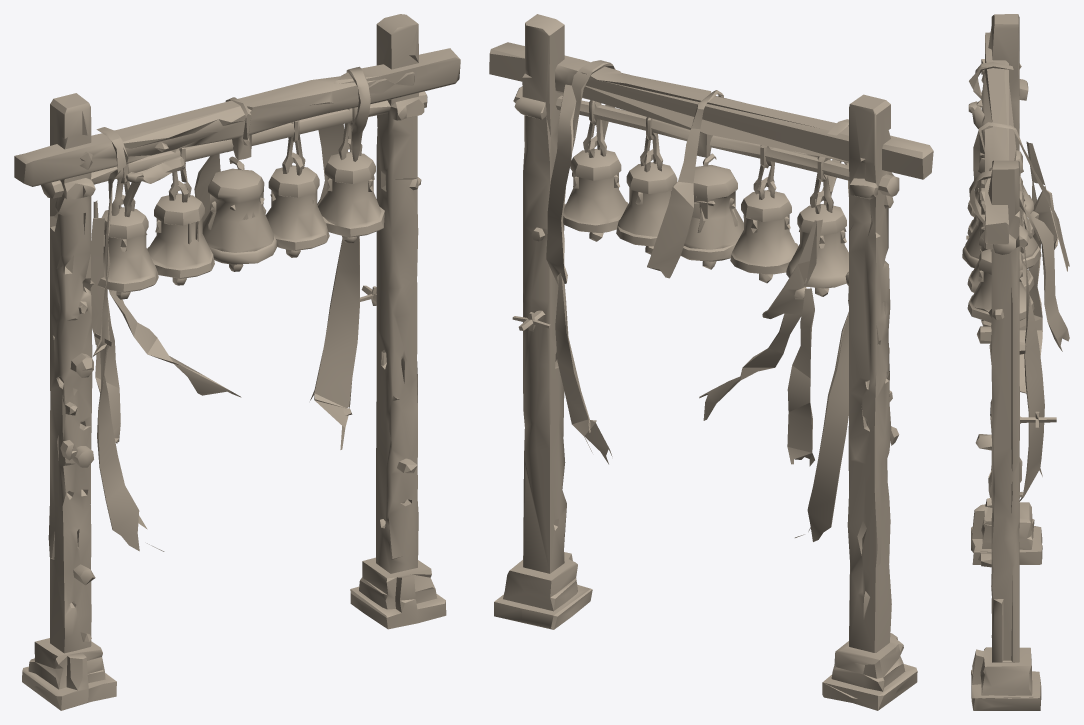
The model's file is kit_windbells.glb.
3 views of the same model, side by side, from view 1: azimuth 30°, elevation 25°; view 2: azimuth 150°, elevation 25°; view 3: azimuth 270°, elevation 25° (orthographic). The views are drawn at different scales.
Visible parts, largest first — view 1: windbells; view 2: windbells; view 3: windbells.
Part boxes in pixels (x1,y1,x2,y2): windbells: [14, 14, 460, 710]; windbells: [489, 14, 933, 710]; windbells: [962, 14, 1069, 710].
Bounding box in the file's own units: 1.85 × 2.4 × 0.4381.
